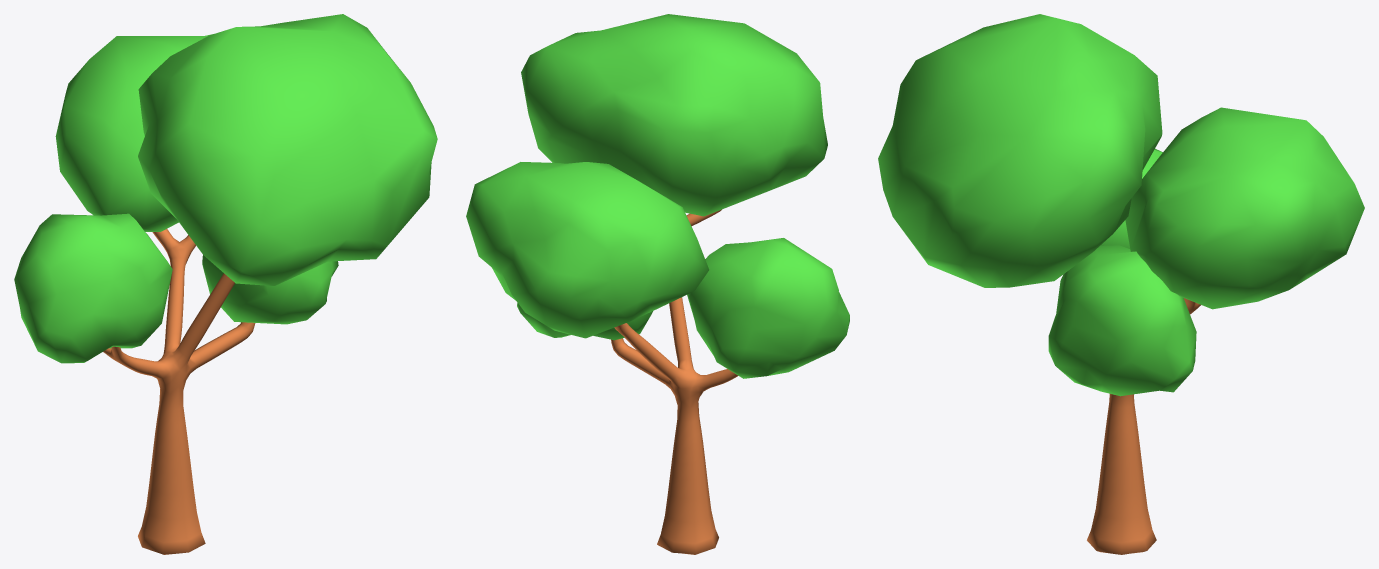
File: No Apple Tree.fbx
The picture shows the model from 3 angles, left to right: view 1: azimuth 30°, elevation 25°; view 2: azimuth 150°, elevation 25°; view 3: azimuth 270°, elevation 25°; orthographic projection. The views are drawn at different scales.
Parts seen in each view (by area): view 1: Leaves4, Leaves3, Leaves1, Tree, Leaves2; view 2: Leaves4, Leaves1, Leaves3, Tree, Leaves2; view 3: Leaves4, Leaves1, Leaves2, Tree, Leaves3.
Part boxes in pixels (x1,y1,x2,y2): Leaves4: (138,14,437,285); Leaves3: (14,213,172,363); Leaves1: (55,34,212,231); Tree: (103,229,255,554); Leaves2: (202,255,338,324); Leaves4: (521,14,827,216); Leaves1: (466,162,709,338); Leaves3: (687,238,849,378); Tree: (611,209,738,554); Leaves2: (517,302,652,340); Leaves4: (878,14,1162,287); Leaves1: (1125,107,1364,309); Leaves2: (1048,245,1196,396); Tree: (1087,298,1200,554); Leaves3: (1100,148,1162,248).
Size of the model in its own units: 446 by 619 by 504.
